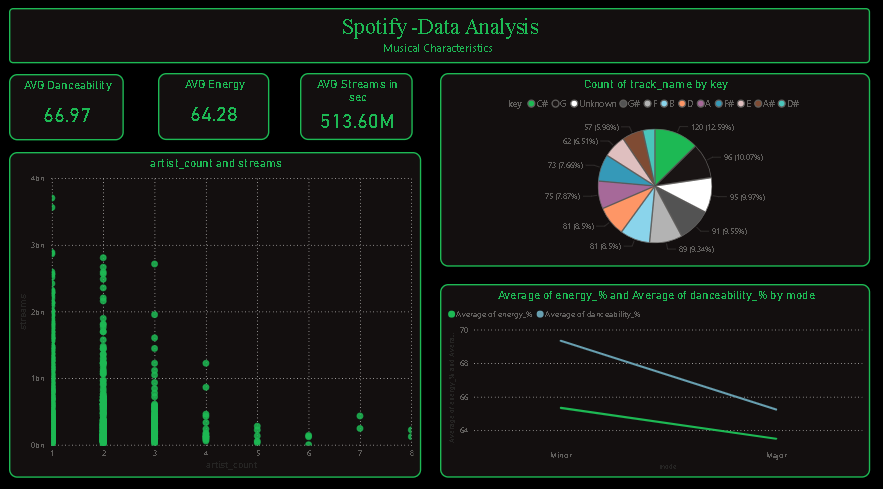

This screenshot's page, from the dashboard's own definition file:
{"tool":"powerbi","page":{"name":"Page 2","canvas":[1280,720],"ordinal":1},"visuals":[{"type":"textbox","box":[17.7,17.7,1244.6,79.5],"z":0},{"type":"card","title":"AVG Danceability","fields":{"Values":["Avg(spotify-2023.danceability_%)"]},"box":[16.8,112.5,166.3,95.7],"z":1000},{"type":"card","title":"AVG Energy","fields":{"Values":["Avg(spotify-2023.energy_%)"]},"box":[233.4,111.2,161.4,97.1],"z":2000},{"type":"card","title":"AVG Streams in sec","fields":{"Values":["Avg(spotify-2023.streams)"]},"box":[438.7,111.2,162.9,97.1],"z":3000},{"type":"scatterChart","fields":{"Y":["spotify-2023.streams"],"X":["spotify-2023.artist_count"]},"box":[17.3,225.5,595.7,471.3],"z":4000},{"type":"pieChart","fields":{"Category":["spotify-2023.key"],"Y":["CountNonNull(spotify-2023.track_name)"]},"box":[640.7,111.9,621.6,280],"z":5000},{"type":"lineChart","fields":{"Category":["spotify-2023.mode"],"Y":["Avg(spotify-2023.energy_%)","Avg(spotify-2023.danceability_%)"]},"box":[640.7,416.8,621.6,279.9],"z":6000}]}

Visuals, with their boxes in screenshot pixels (x1, y1, x2, y2), scaled from the page's 1280x720 canvas onto the 883x489 screenshot:
textbox: x1=12 y1=12 x2=871 y2=66
"AVG Danceability" card: x1=12 y1=76 x2=126 y2=141
"AVG Energy" card: x1=161 y1=76 x2=272 y2=141
"AVG Streams in sec" card: x1=303 y1=76 x2=415 y2=141
scatterChart - spotify-2023.streams x spotify-2023.artist_count: x1=12 y1=153 x2=423 y2=473
pieChart - spotify-2023.key x CountNonNull(spotify-2023.track_name): x1=442 y1=76 x2=871 y2=266
lineChart - spotify-2023.mode x Avg(spotify-2023.energy_%): x1=442 y1=283 x2=871 y2=473
